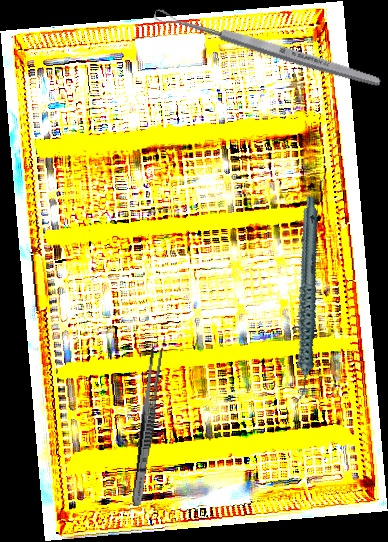Dressing Forceps: (129, 346, 164, 508)
Handpiece: (251, 195, 359, 405)
Surgical Spoon: (152, 6, 383, 90)
